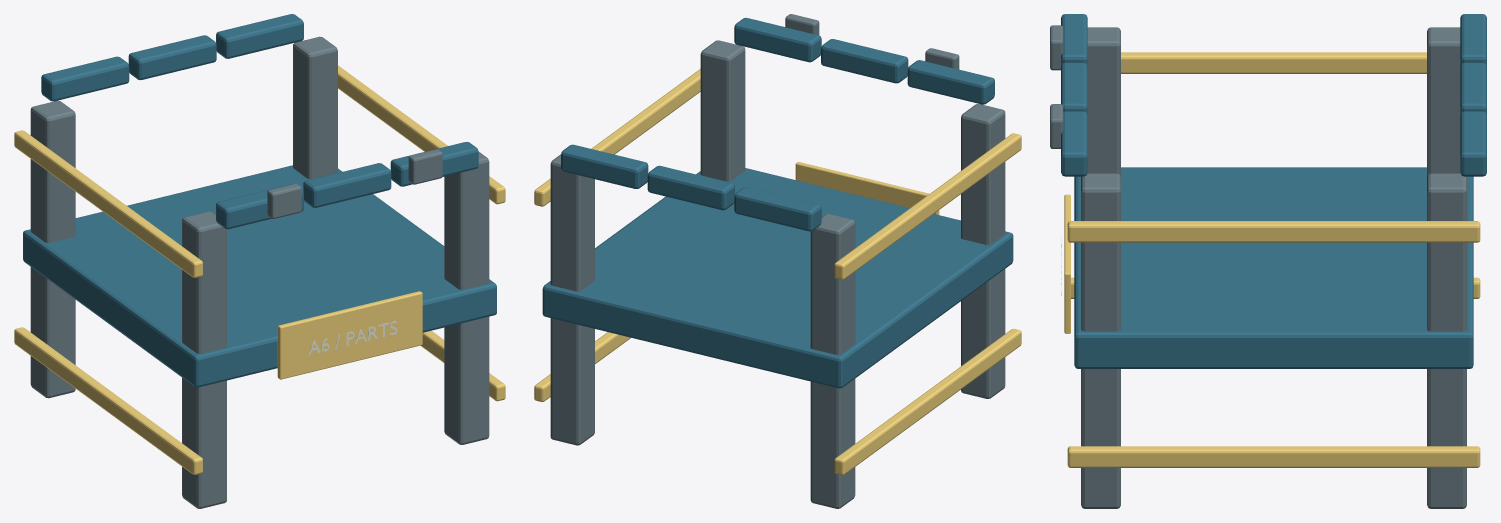
Rendered from cargo_crate_d0.glb.
3 renders of one model, left to right at view 1: azimuth 30°, elevation 25°; view 2: azimuth 150°, elevation 25°; view 3: azimuth 270°, elevation 25°, orthographic. The views are drawn at different scales.
Visible parts, largest first — view 1: Crate shell, Corner post.002, Corner post, Corner post.001, Identification placard, Corner post.003, Vertical tie band, Vertical tie band.001, Vertical tie band.003, Lid slat.003, Lid slat.001, Lid slat.004 (+6 smaller); view 2: Crate shell, Corner post.001, Corner post.003, Corner post, Corner post.002, Vertical tie band.001, Vertical tie band, Vertical tie band.003, Lid slat.003, Lid slat.004, Lid slat, Lid slat.001 (+4 smaller); view 3: Crate shell, Corner post.002, Corner post.003, Vertical tie band.002, Vertical tie band.003, Vertical tie band.001, Corner post, Corner post.001, Lid slat.005, Lid slat.002, Lid slat.004, Lid slat.001 (+5 smaller).
Part boxes in pixels (box(x1,y1,x2,y2)): Crate shell: box(23, 165, 496, 387); Corner post.002: box(444, 152, 489, 444); Corner post: box(182, 211, 226, 508); Corner post.001: box(30, 100, 75, 398); Identification placard: box(277, 291, 422, 379); Corner post.003: box(293, 36, 337, 178); Vertical tie band: box(14, 327, 202, 474); Vertical tie band.001: box(14, 130, 202, 277); Vertical tie band.003: box(338, 65, 505, 204); Lid slat.003: box(41, 56, 129, 101); Lid slat.001: box(303, 163, 391, 207); Lid slat.004: box(128, 35, 216, 80); Crate shell: box(542, 168, 1013, 388); Corner post.001: box(810, 213, 855, 508); Corner post.003: box(550, 154, 594, 445); Corner post: box(961, 104, 1005, 398); Corner post.002: box(700, 40, 745, 181); Vertical tie band.001: box(834, 133, 1021, 279); Vertical tie band: box(834, 328, 1021, 475); Vertical tie band.003: box(534, 69, 700, 206); Lid slat.003: box(734, 187, 821, 231); Lid slat.004: box(647, 165, 734, 210); Lid slat: box(907, 60, 994, 104); Lid slat.001: box(821, 39, 908, 83); Crate shell: box(1074, 167, 1473, 368); Corner post.002: box(1081, 173, 1120, 508); Corner post.003: box(1427, 173, 1466, 508); Vertical tie band.002: box(1067, 446, 1480, 467); Vertical tie band.003: box(1067, 221, 1480, 242); Vertical tie band.001: box(1121, 52, 1426, 73); Corner post: box(1087, 27, 1120, 176); Corner post.001: box(1427, 27, 1460, 176); Lid slat.005: box(1460, 111, 1486, 176); Lid slat.002: box(1061, 111, 1087, 176); Lid slat.004: box(1460, 62, 1486, 114); Lid slat.001: box(1061, 62, 1087, 114).
Size of the model in its own units: 1.86 by 1.78 by 1.97.
